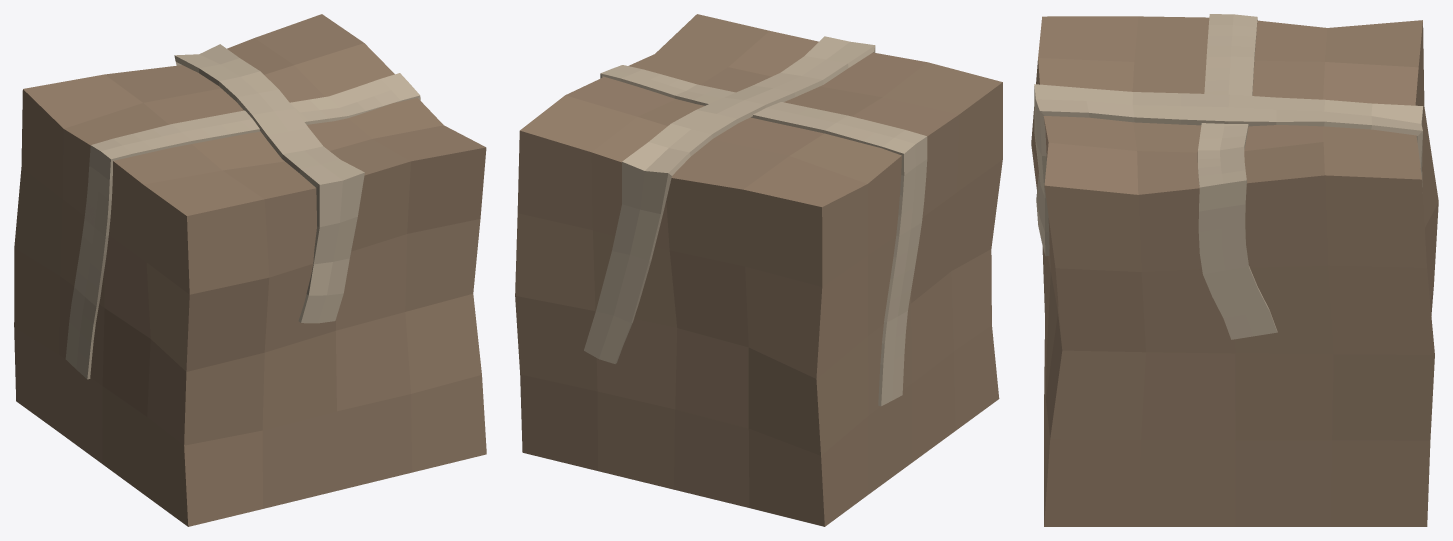
Rendered from boxJump.fbx.
3 views of the same model, side by side, from view 1: azimuth 30°, elevation 25°; view 2: azimuth 150°, elevation 25°; view 3: azimuth 270°, elevation 25° (orthographic). The views are drawn at different scales.
Visible parts, largest first — view 1: Box, Tape, Tape.001; view 2: Box, Tape, Tape.001; view 3: Box, Tape.001, Tape.
Boxes of the visible parts, x1=… form: Box: x1=14, y1=14, x2=486, y2=526; Tape: x1=174, y1=44, x2=364, y2=323; Tape.001: x1=65, y1=73, x2=420, y2=379; Box: x1=515, y1=14, x2=1002, y2=526; Tape: x1=584, y1=36, x2=875, y2=363; Tape.001: x1=600, y1=65, x2=927, y2=406; Box: x1=1031, y1=16, x2=1438, y2=526; Tape.001: x1=1197, y1=14, x2=1277, y2=339; Tape: x1=1034, y1=84, x2=1423, y2=256.
Size of the model in its own units: 103 by 102 by 106.
